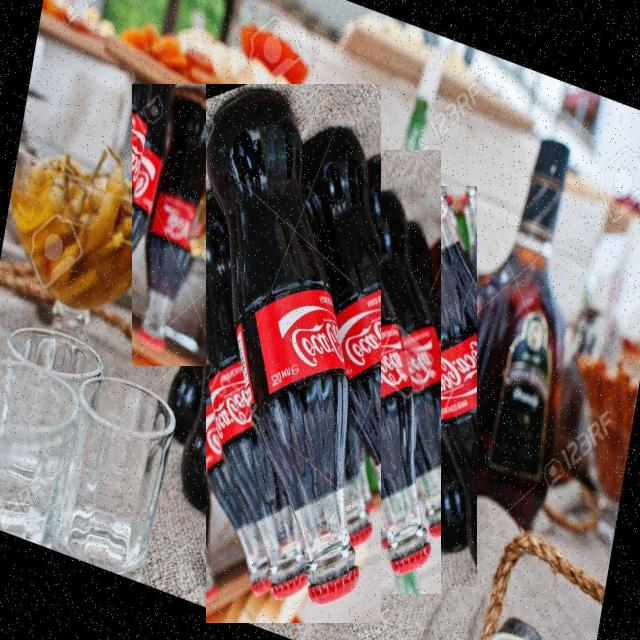coca-cola: (206, 84, 381, 623), (305, 150, 441, 594), (179, 89, 313, 524), (358, 186, 477, 587), (133, 84, 225, 366)
